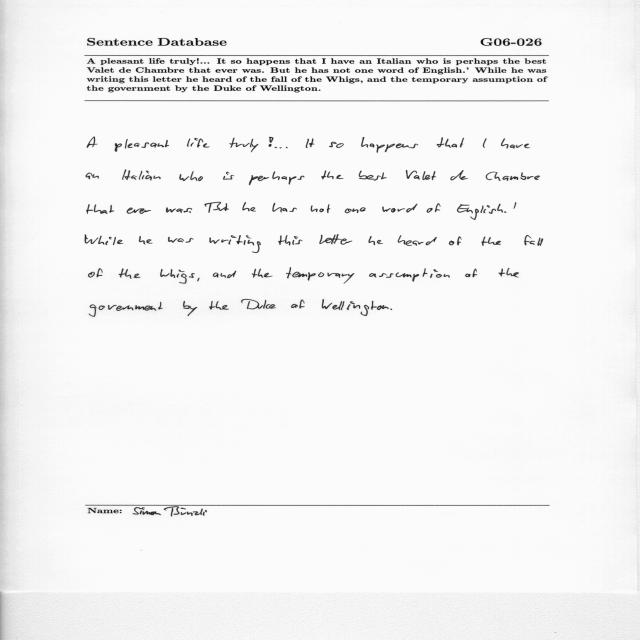word: (322, 299, 389, 316), (369, 268, 450, 282), (89, 302, 163, 317), (286, 268, 354, 284), (209, 235, 261, 253), (361, 137, 418, 153), (457, 204, 503, 220), (249, 172, 304, 185), (115, 139, 169, 152), (160, 269, 195, 284), (486, 172, 540, 181), (122, 170, 161, 181), (398, 235, 437, 246), (85, 235, 123, 246), (230, 138, 259, 152), (319, 234, 352, 245), (241, 300, 276, 310), (501, 138, 530, 149), (383, 204, 418, 213), (406, 170, 436, 180), (437, 137, 464, 148), (359, 171, 387, 181), (204, 202, 229, 213), (278, 235, 303, 246), (87, 204, 114, 214), (272, 203, 297, 213), (179, 171, 203, 181), (119, 268, 140, 279), (187, 138, 210, 148), (183, 301, 197, 316), (524, 235, 543, 246), (322, 171, 344, 180), (450, 170, 468, 181), (252, 269, 273, 278), (498, 268, 519, 277), (311, 204, 331, 213), (209, 301, 229, 310), (482, 237, 501, 246), (127, 207, 151, 214), (213, 271, 236, 278), (166, 208, 192, 214), (168, 237, 194, 243), (427, 203, 441, 213), (89, 268, 103, 278), (368, 236, 383, 245), (242, 202, 256, 211), (345, 208, 366, 214), (291, 300, 305, 309), (87, 137, 98, 148), (139, 236, 152, 245), (449, 237, 462, 246), (466, 269, 478, 278), (306, 138, 315, 148), (329, 142, 344, 148), (223, 172, 234, 180), (86, 173, 99, 179), (269, 137, 274, 147), (483, 138, 487, 148), (514, 202, 517, 209), (275, 147, 288, 148), (197, 278, 200, 281), (504, 211, 507, 213), (189, 211, 191, 213), (391, 309, 393, 310)
